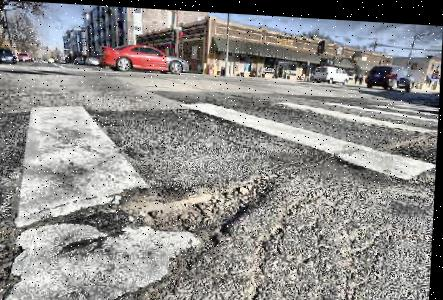pothole: (108, 156, 284, 245)
